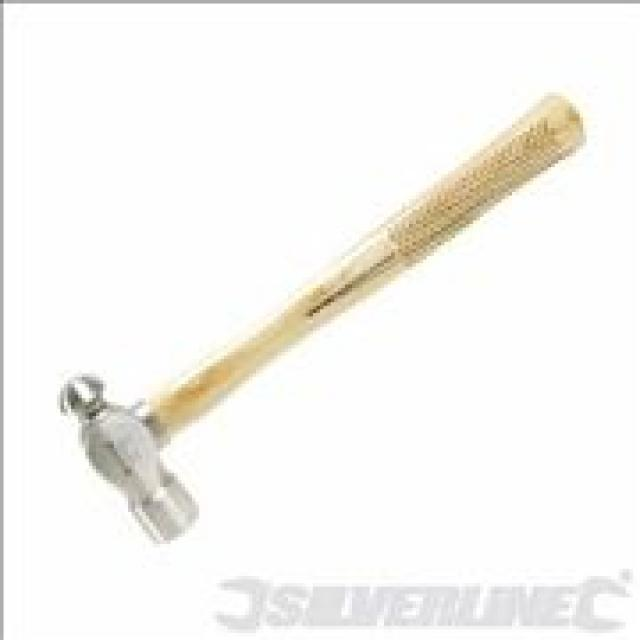hammer: (51, 78, 606, 572)
